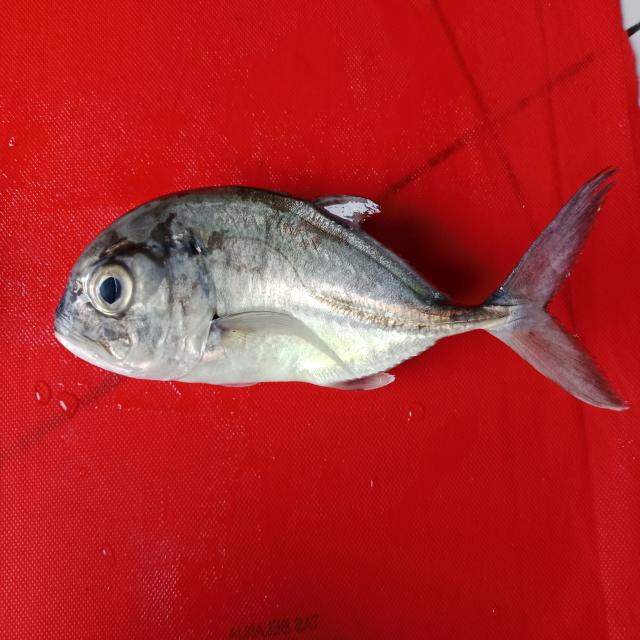ikan: (36, 152, 635, 439)
